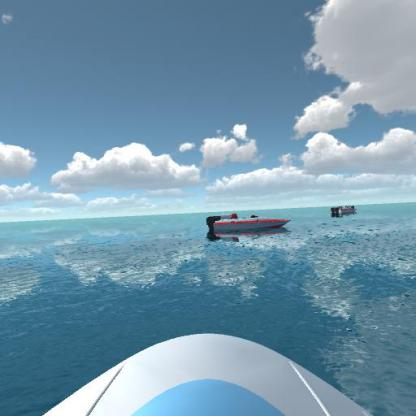usv3: (203, 205, 294, 238), (324, 198, 366, 219)
